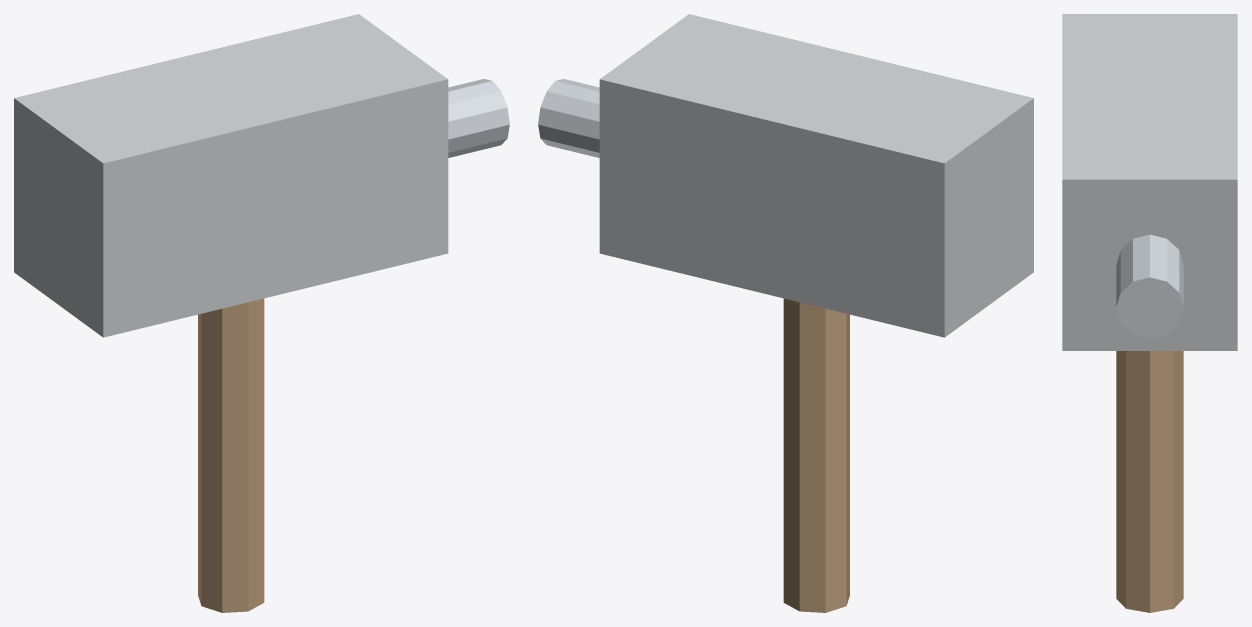
Rendered from mazo_4.glb.
3 views of the same model, side by side, from view 1: azimuth 30°, elevation 25°; view 2: azimuth 150°, elevation 25°; view 3: azimuth 270°, elevation 25° (orthographic).
Visible parts, largest first — view 1: cabeza, mango, piston; view 2: cabeza, mango, piston; view 3: cabeza, mango, piston.
Boxes of the visible parts, x1,y1,x2,y2 form: cabeza: [14, 14, 448, 337]; mango: [198, 298, 264, 612]; piston: [448, 79, 509, 157]; cabeza: [599, 14, 1033, 337]; mango: [783, 298, 849, 612]; piston: [538, 79, 599, 157]; cabeza: [1062, 14, 1237, 350]; mango: [1116, 351, 1183, 612]; piston: [1116, 234, 1183, 338].
Bounding box in the file's own units: 0.8012 × 0.9 × 0.2854.
